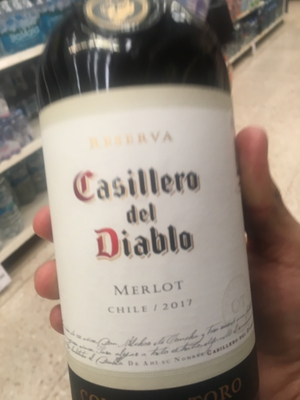casillero del diablo merlot: (33, 2, 265, 400)
